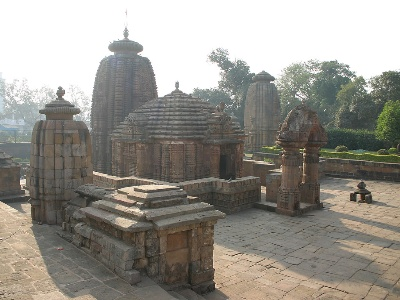amalaka: (33, 93, 87, 119), (102, 34, 151, 54), (248, 68, 281, 84)
gopuram: (23, 117, 95, 223), (89, 54, 163, 150)
torana: (268, 102, 332, 225)
